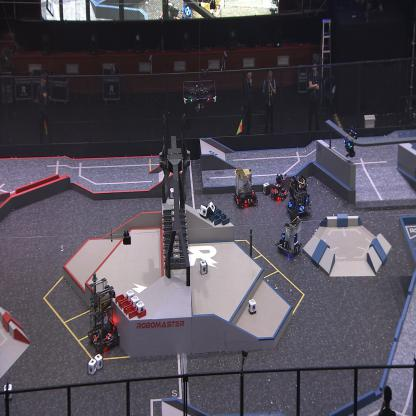car: (87, 276, 120, 352), (285, 174, 312, 218), (233, 167, 259, 208), (277, 216, 302, 258), (268, 172, 288, 201)
